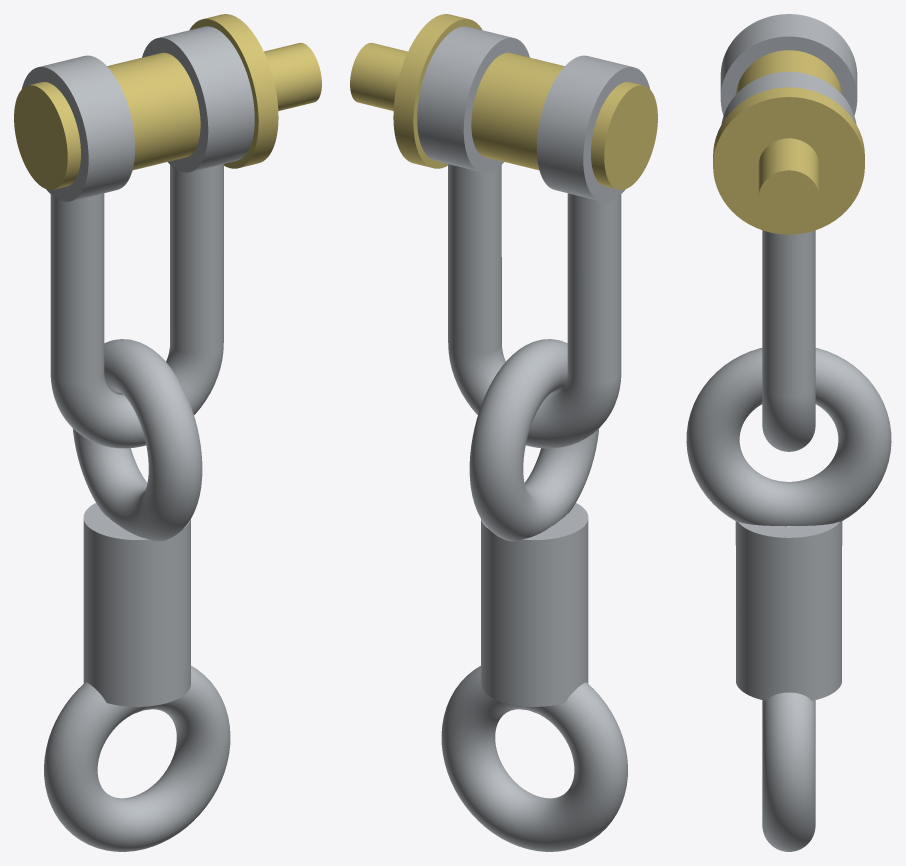
The model's file is step_02.glb.
3 views of the same model, side by side, from view 1: azimuth 30°, elevation 25°; view 2: azimuth 150°, elevation 25°; view 3: azimuth 270°, elevation 25° (orthographic).
Parts seen in each view (by area): view 1: part__swivel, part__bow shackle, part__load pin; view 2: part__swivel, part__bow shackle, part__load pin; view 3: part__swivel, part__load pin, part__bow shackle.
Boxes of the visible parts, <box> form: part__swivel: <box>44,339,230,851</box>; part__bow shackle: <box>22,26,254,448</box>; part__load pin: <box>14,14,321,189</box>; part__swivel: <box>441,339,627,851</box>; part__bow shackle: <box>417,26,649,448</box>; part__load pin: <box>350,14,657,189</box>; part__swivel: <box>686,348,891,851</box>; part__load pin: <box>713,50,864,234</box>; part__bow shackle: <box>720,14,857,451</box>.
Bounding box in the file's own units: 80 × 231 × 53.98.
